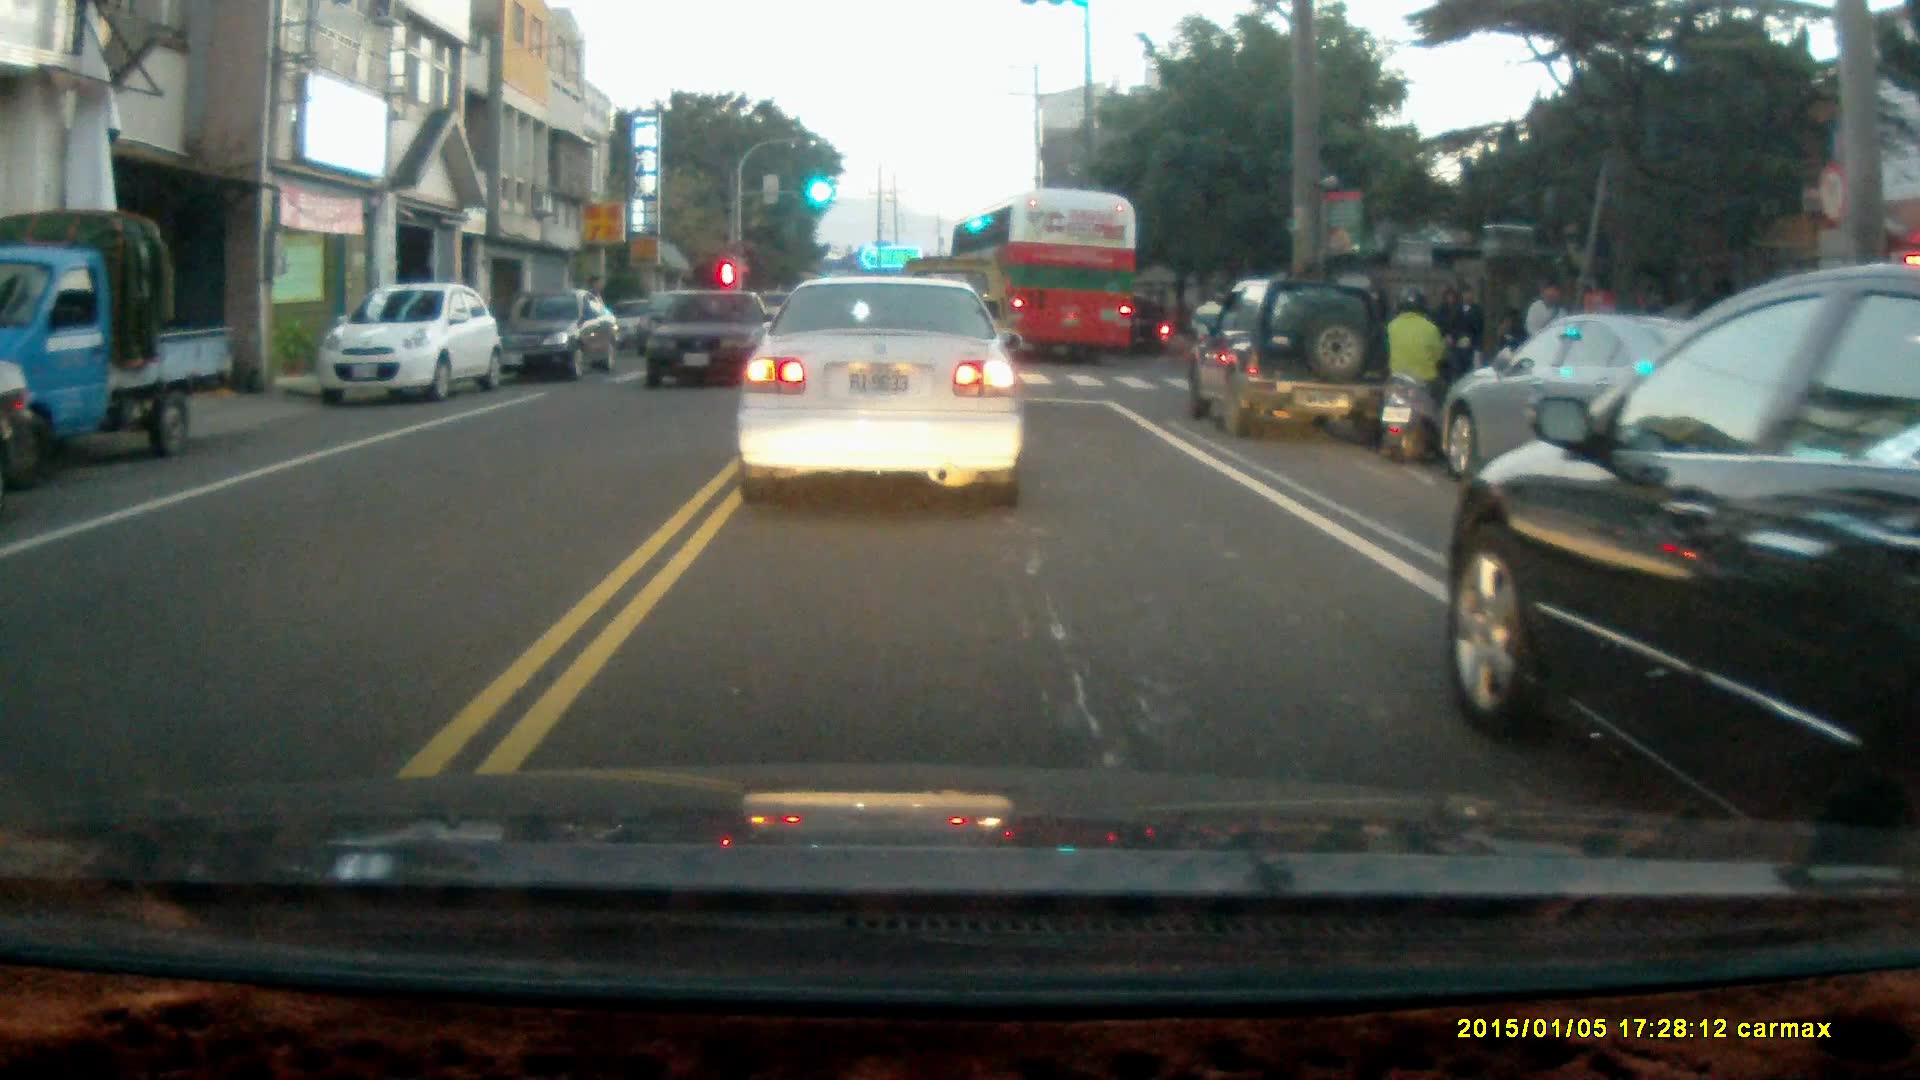pedestrian: (1519, 273, 1572, 391), (1440, 282, 1487, 407)
rider: (1378, 282, 1456, 464), (1114, 293, 1175, 353)
vehicle: (1451, 259, 1920, 827), (731, 271, 1026, 508), (1, 213, 241, 461), (1437, 311, 1777, 485), (1190, 275, 1403, 442), (955, 188, 1142, 364), (321, 284, 498, 404), (643, 291, 772, 392), (503, 286, 623, 380)
